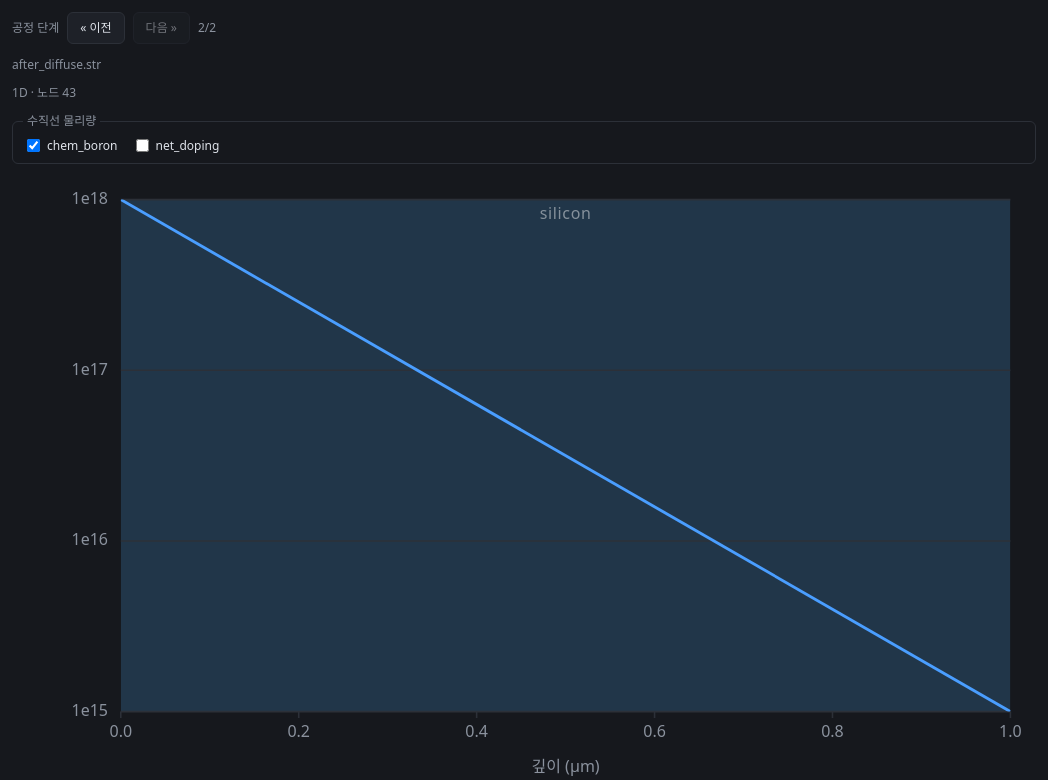
공정 단계 › 다시 다음 단계로 간다
Expected: the text "after_diffuse.str" is shown, [12, 56, 101, 73]
Step 1. Click the button "« 이전" → point(96, 28), box [67, 12, 125, 44]
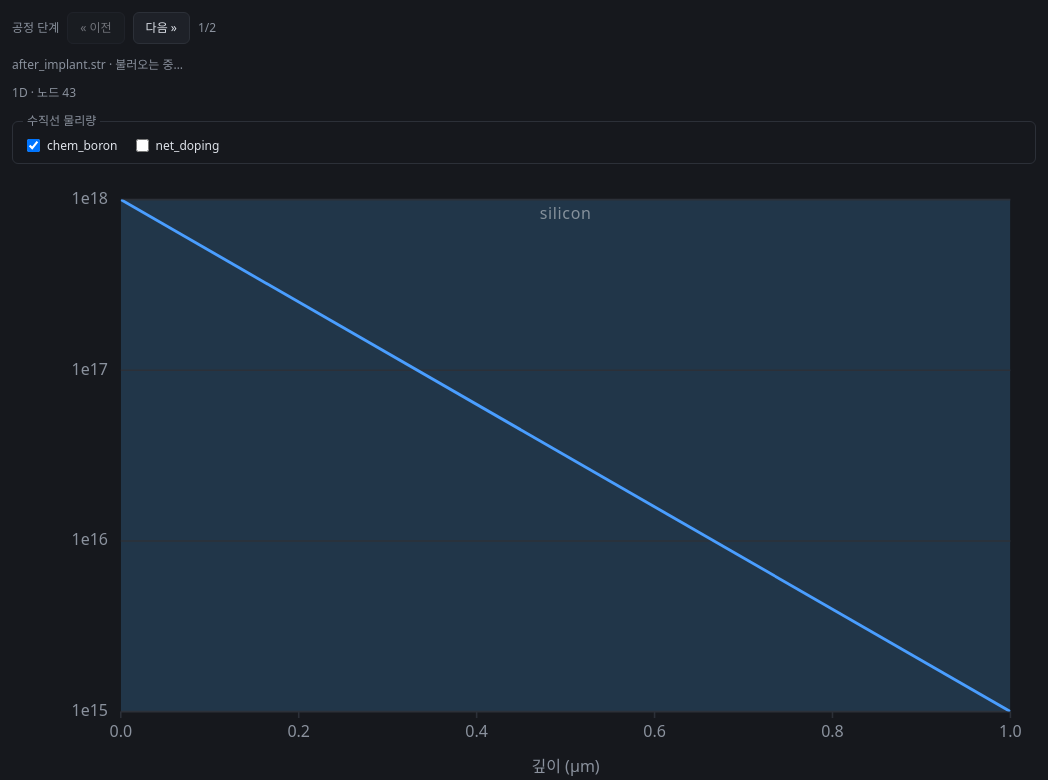
Result: the text "1/2" is shown at [198, 19, 216, 37]
Step 2. Click the button "다음 »" → point(161, 28), box [133, 12, 190, 44]
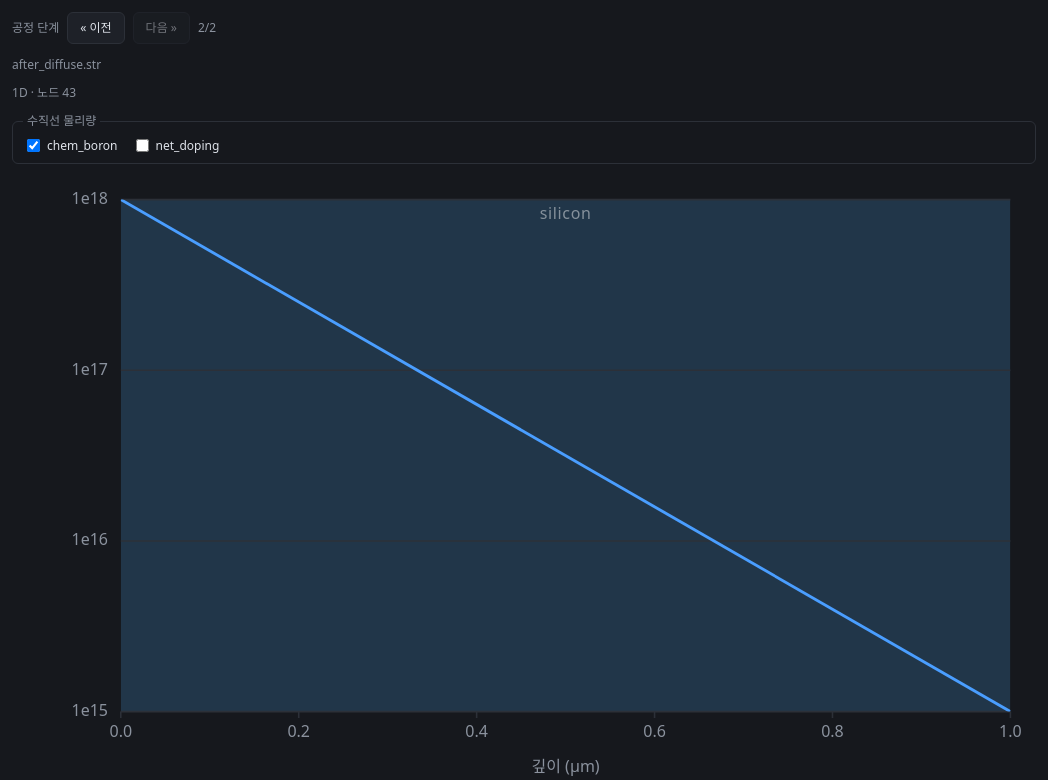
Result: the text "2/2" is shown at [198, 19, 216, 37]
